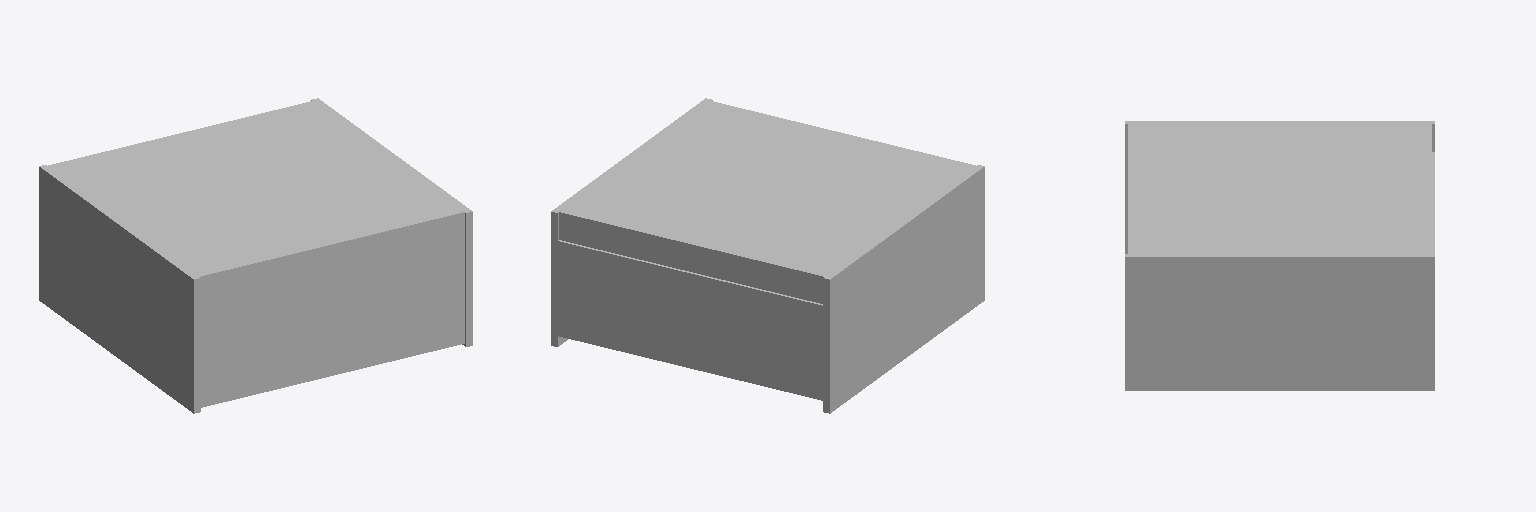
The model's file is shelf_collision.obj.
3 views of the same model, side by side, from view 1: azimuth 30°, elevation 25°; view 2: azimuth 150°, elevation 25°; view 3: azimuth 270°, elevation 25° (orthographic).
Visible parts, largest first — view 1: mesh 1 shelf_co; view 2: mesh 1 shelf_co; view 3: mesh 1 shelf_co.
Part boxes in pixels (x1,y1,x2,y2): mesh 1 shelf_co: (39,98,472,413); mesh 1 shelf_co: (551,98,984,413); mesh 1 shelf_co: (1125,121,1434,390).
Bounding box in the file's own units: 2.1 × 0.9647 × 2.02.